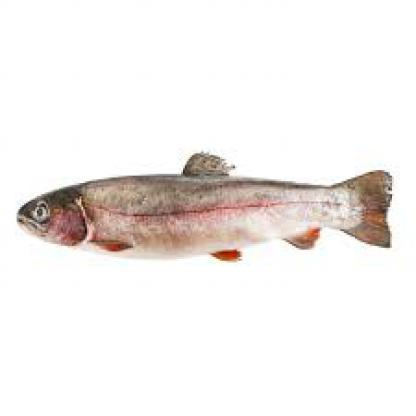fish: (15, 149, 390, 261)
